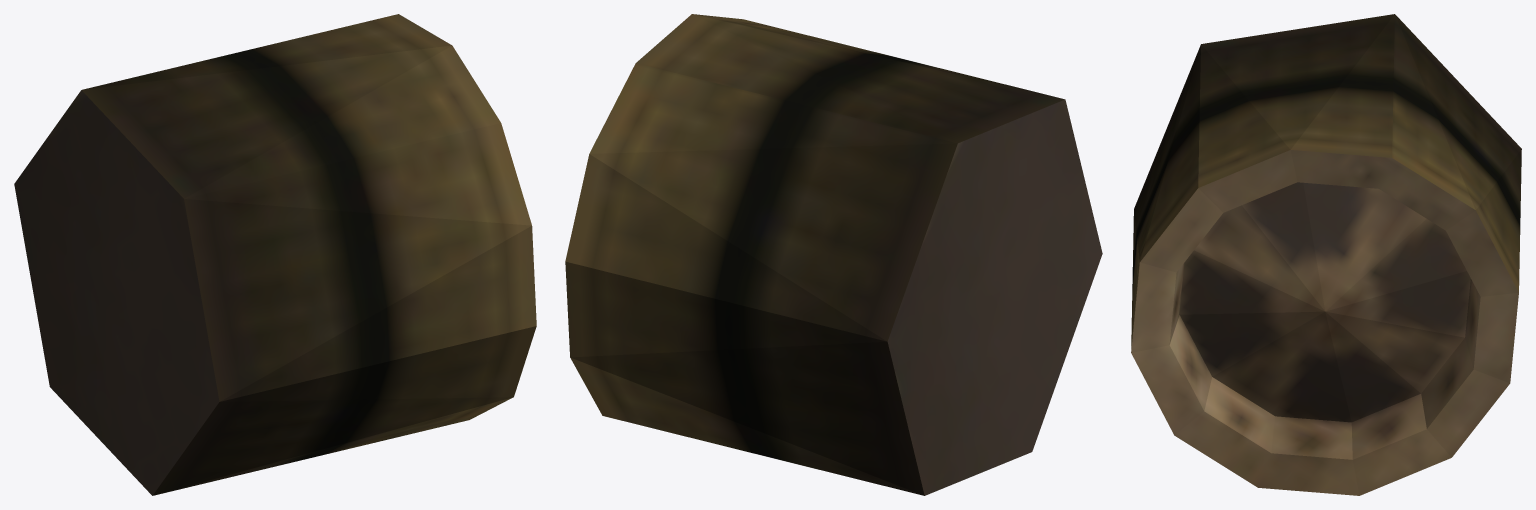
The model's file is BackWheel.fbx.
The picture shows the model from 3 angles, left to right: view 1: azimuth 30°, elevation 25°; view 2: azimuth 150°, elevation 25°; view 3: azimuth 270°, elevation 25°; orthographic projection. The views are drawn at different scales.
Parts seen in each view (by area): view 1: BackWheel; view 2: BackWheel; view 3: BackWheel.
Part boxes in pixels (x1,y1,x2,y2): BackWheel: (14,14,536,495); BackWheel: (565,14,1102,495); BackWheel: (1131,14,1521,495).
Bounding box in the file's own units: 0.5676 × 0.6313 × 0.6462.
